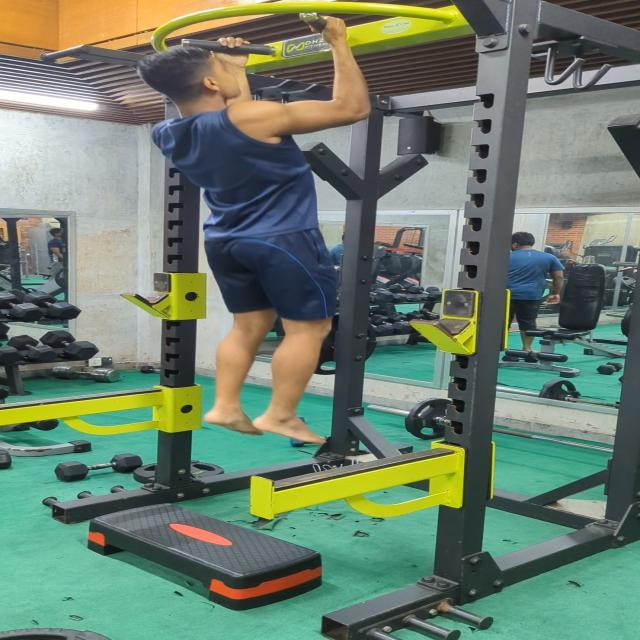Normal_PullUps: (134, 13, 372, 446)
